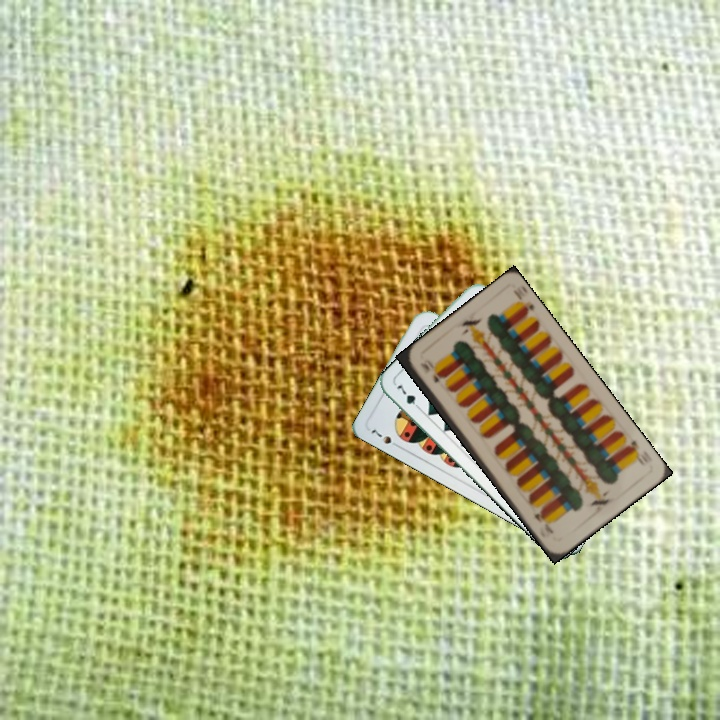E10: (622, 436, 647, 467), (416, 358, 442, 385)
G7: (392, 381, 424, 413)
S7: (367, 425, 403, 451)
